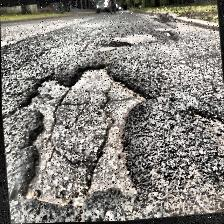pothole: (14, 51, 158, 213)
